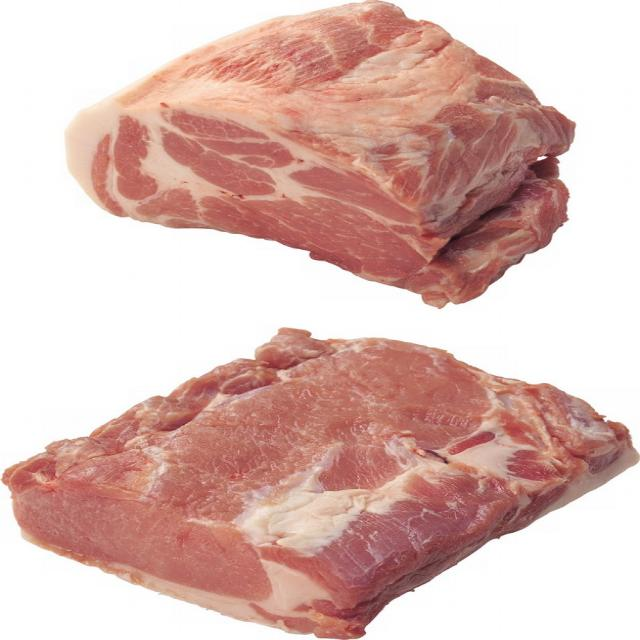pork belly: (0, 317, 640, 638), (58, 3, 580, 314)
